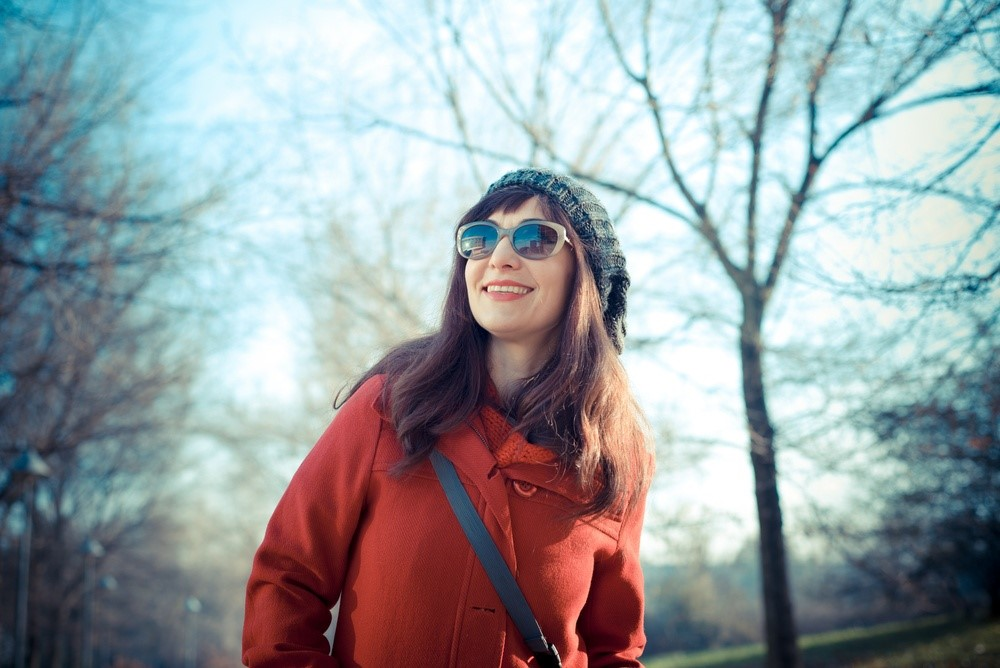face_no_mask: (453, 185, 584, 342)
